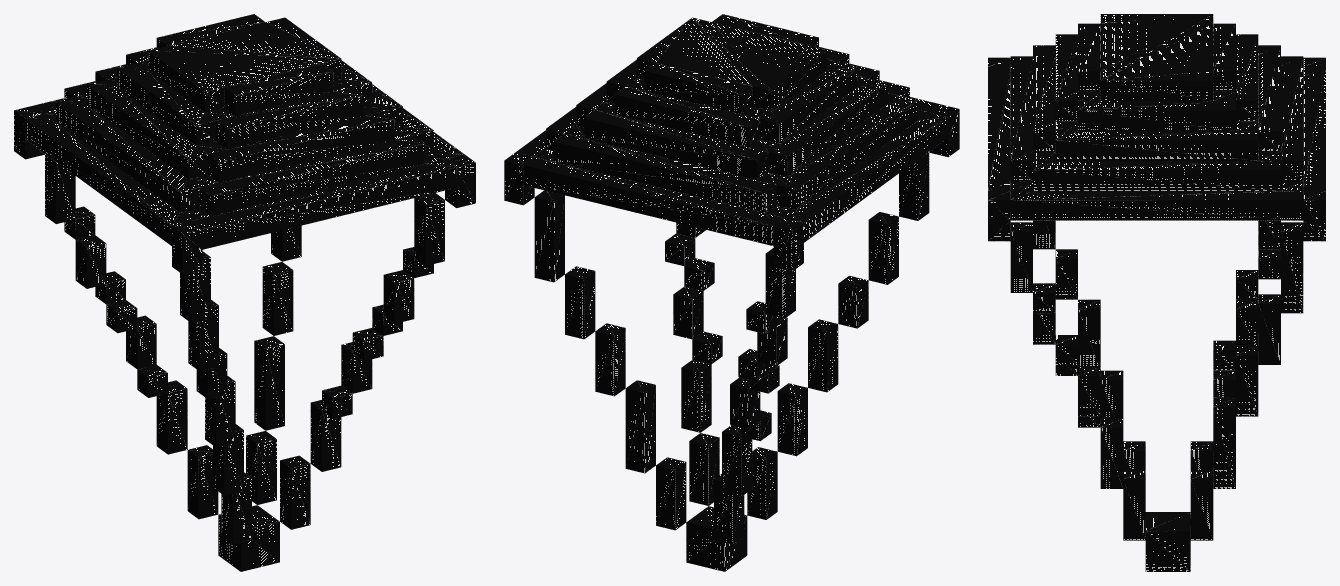
Rendered from Parachute.obj.
3 renders of one model, left to right at view 1: azimuth 30°, elevation 25°; view 2: azimuth 150°, elevation 25°; view 3: azimuth 270°, elevation 25°, orthographic.
Bounding box in the file's own units: 1.5 × 2.5 × 1.5.
1 material, 1 textured.
